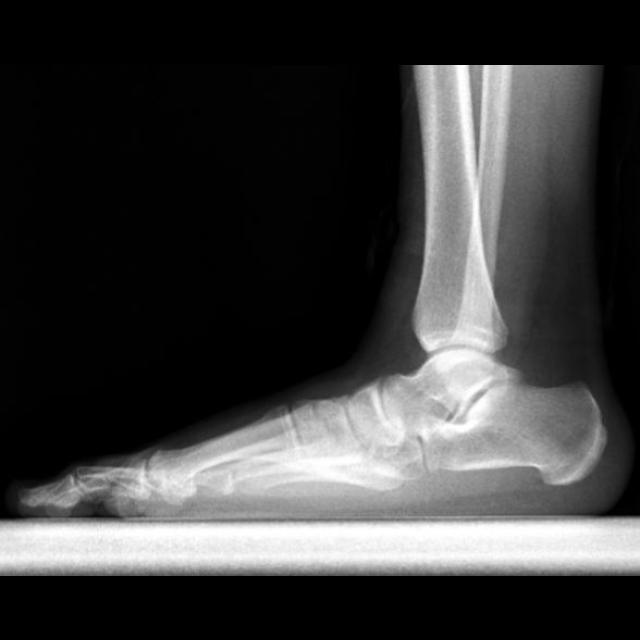a: (423, 379, 609, 485)
b: (345, 376, 408, 458)
c: (146, 402, 310, 494)
